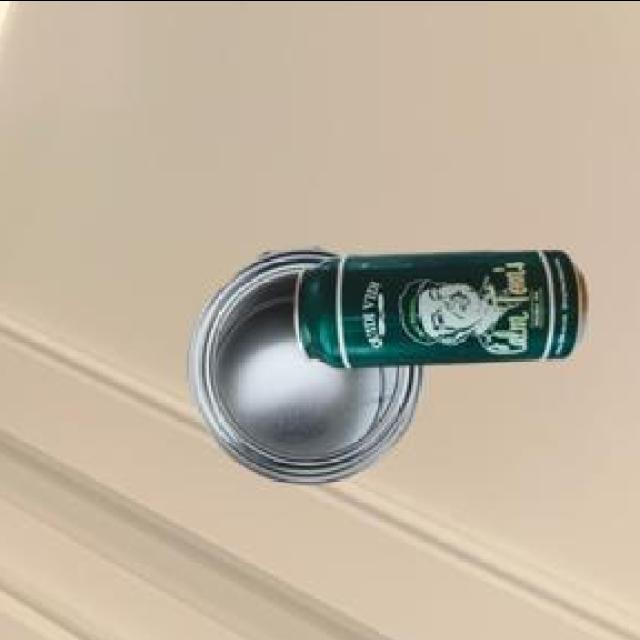logam: (192, 243, 428, 479), (299, 248, 590, 363)
